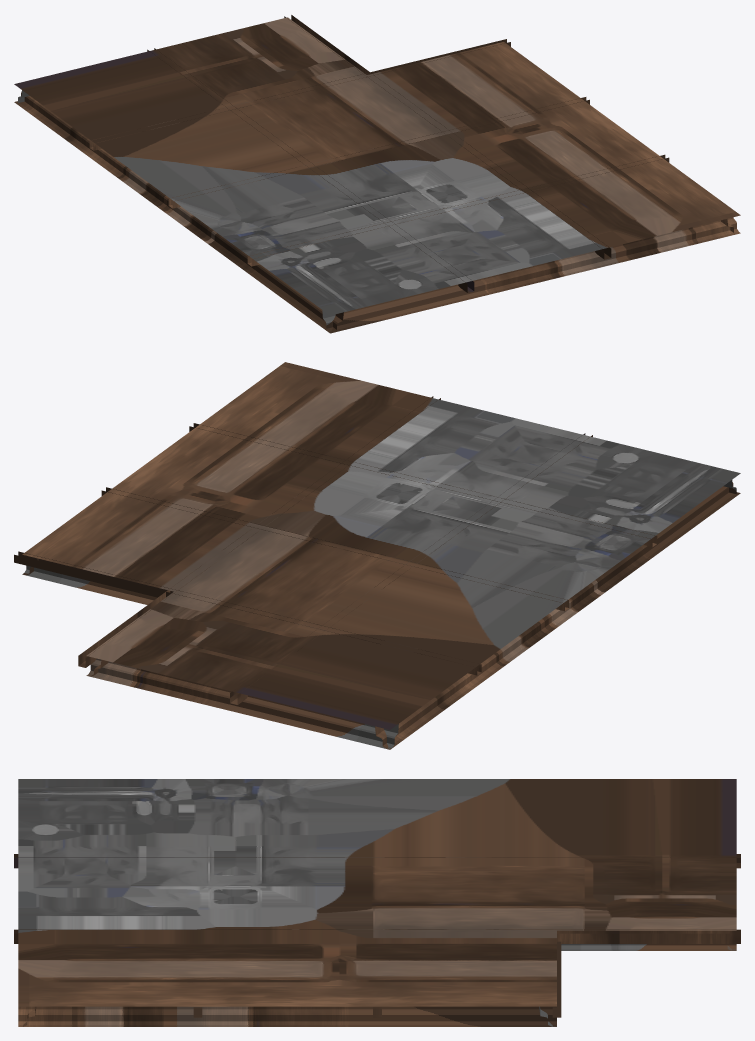
File: Ceiling_v3.fbx
The picture shows the model from 3 angles, top to bottom: view 1: azimuth 30°, elevation 25°; view 2: azimuth 150°, elevation 25°; view 3: azimuth 270°, elevation 25°; orthographic projection. The views are drawn at different scales.
Visible parts, largest first — view 1: Ground.002, Ground.001; view 2: Ground.002, Ground.001; view 3: Ground.002, Ground.001.
Part boxes in pixels (<box>): Ground.002: <box>14,17,740,315</box>; Ground.001: <box>14,15,740,333</box>; Ground.002: <box>22,362,740,729</box>; Ground.001: <box>14,396,740,749</box>; Ground.002: <box>18,779,736,1006</box>; Ground.001: <box>14,854,740,1026</box>.
Bounding box in the file's own units: 610 × 25.26 × 810.
